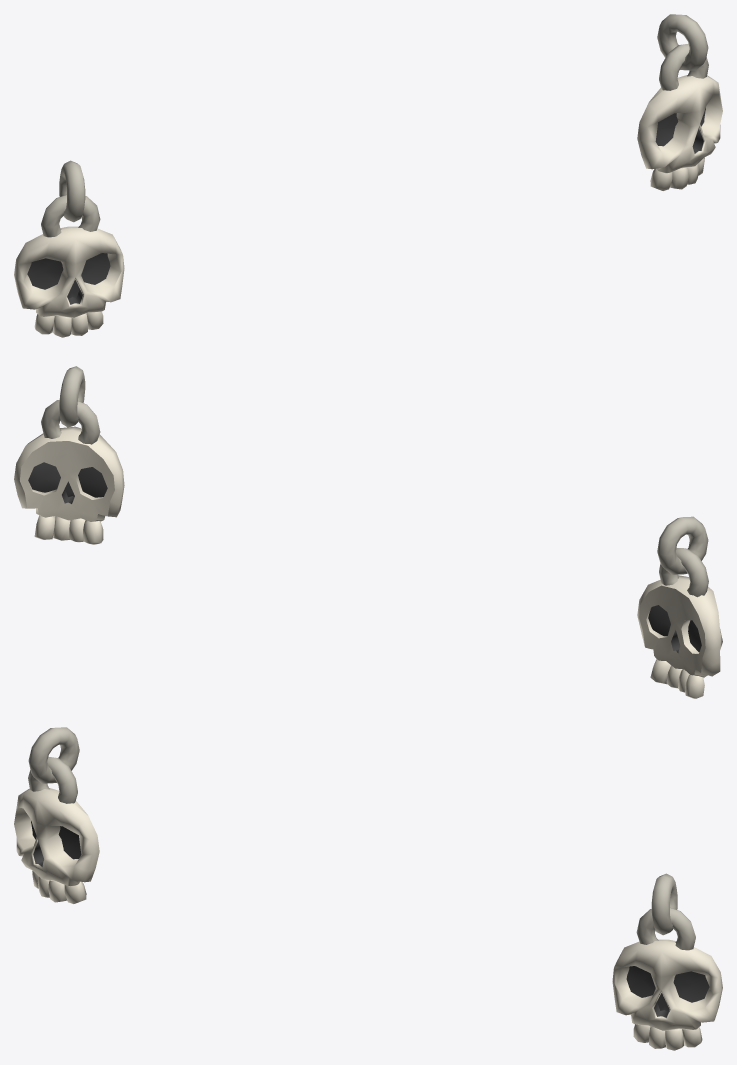
File: Earring_10.fbx
3 renders of one model, top to bottom at view 1: azimuth 30°, elevation 25°; view 2: azimuth 150°, elevation 25°; view 3: azimuth 330°, elevation 25°, orthographic.
Parts seen in each view (by area): view 1: Earring_10; view 2: Earring_10; view 3: Earring_10.
Part boxes in pixels (x1=…): Earring_10: x1=14, y1=14, x2=722, y2=337; Earring_10: x1=14, y1=366, x2=722, y2=698; Earring_10: x1=14, y1=727, x2=722, y2=1050.
Bounding box in the file's own units: 58.2 × 13.58 × 4.23.
